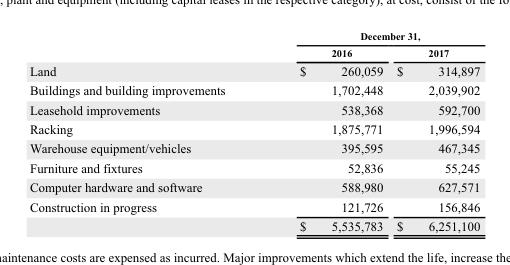table: (28, 28, 479, 233)
table column: (28, 28, 261, 233), (261, 28, 389, 233), (389, 28, 479, 233)
table column header: (28, 28, 479, 60)
table row: (28, 60, 479, 80), (28, 118, 479, 138), (28, 176, 479, 196), (28, 80, 479, 99), (28, 99, 479, 118), (28, 138, 479, 157), (28, 157, 479, 176), (28, 196, 479, 215), (28, 215, 479, 233), (28, 43, 479, 60), (28, 28, 479, 43)
table spanning cell: (261, 28, 479, 43)
